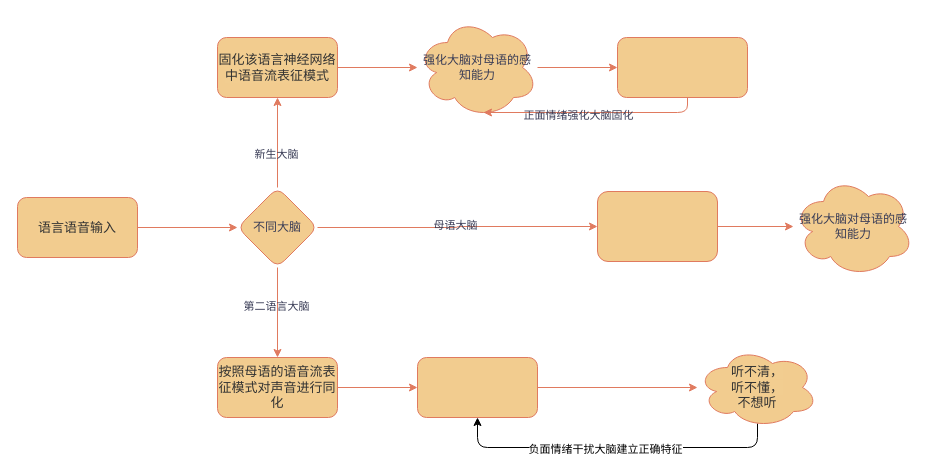
The diagram is 931 pixels wide and 473 high, and some of its shapes have lost their labels. The box of each missing label's shape, as (x1, y1, x2, y2) in pixels:
产生错误的语音流模式匹配: (416, 356, 538, 418)
按照母语的语音流表征模式对声音进行同化，强化母语神经网络: (596, 190, 718, 262)
虽然听不懂说什么，但没关系，反正也不会说，先听听就行: (616, 36, 748, 98)
